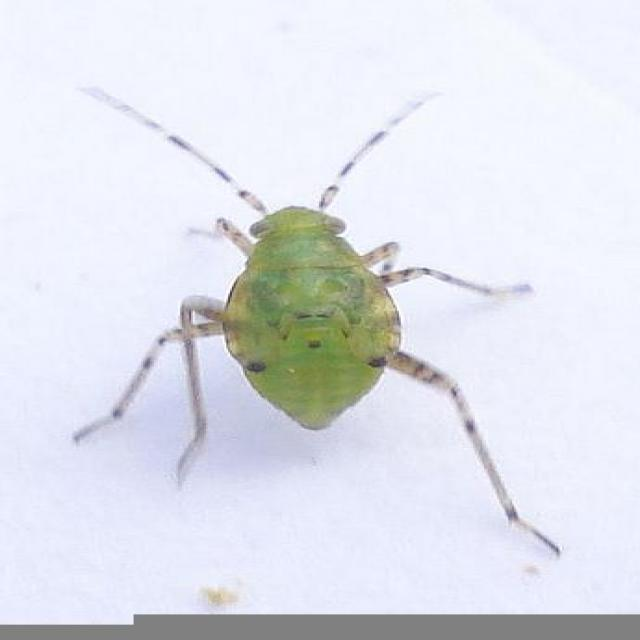Miridae-Adult-: (51, 73, 592, 566)
